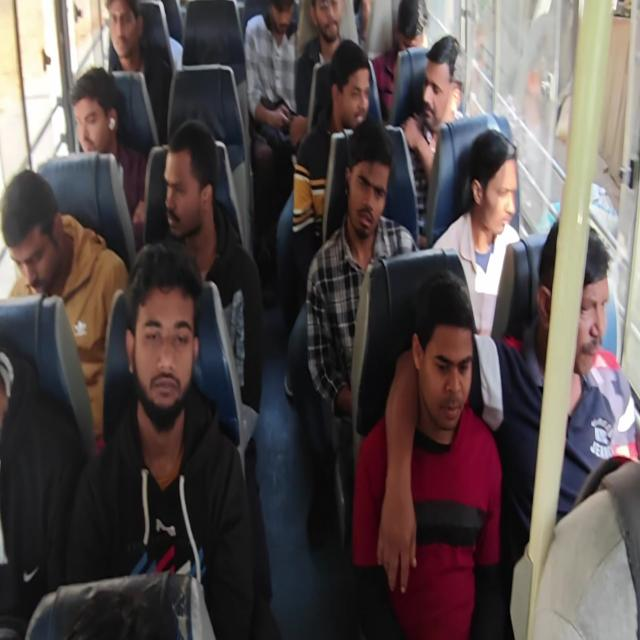person: (130, 263, 196, 414), (409, 293, 475, 429), (551, 248, 615, 376), (0, 187, 64, 287), (159, 133, 215, 241), (468, 140, 518, 247), (416, 48, 463, 134), (345, 146, 386, 233), (100, 0, 141, 70), (65, 88, 108, 152), (335, 61, 373, 130), (391, 0, 426, 60), (254, 0, 298, 41), (312, 0, 347, 42)
